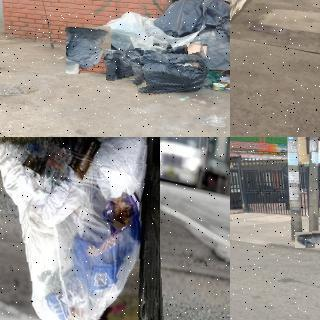Garbage: (0, 137, 163, 320), (132, 45, 210, 97), (66, 26, 112, 74), (105, 50, 145, 82), (294, 231, 320, 248), (215, 15, 230, 43)
